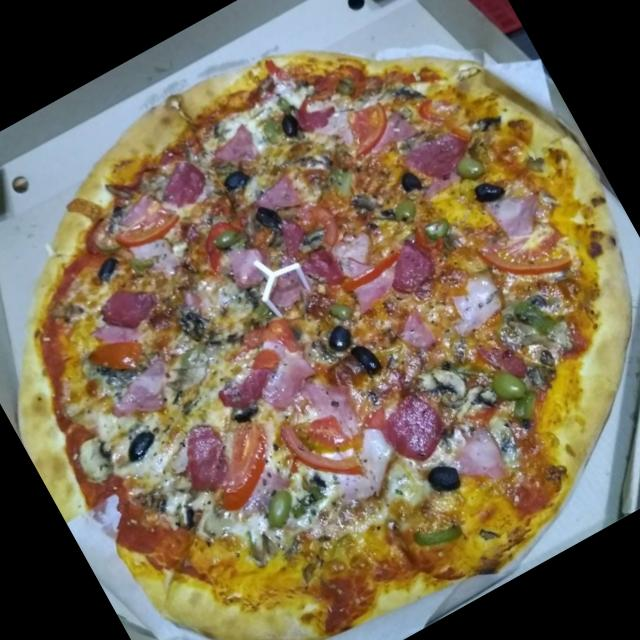black_olives: (421, 455, 470, 501), (82, 247, 130, 292), (116, 423, 164, 466), (248, 194, 289, 238), (465, 174, 508, 213), (347, 334, 383, 380), (389, 162, 429, 202), (272, 106, 309, 146), (228, 398, 270, 432), (217, 163, 253, 199), (322, 320, 356, 355)
mushrooms: (412, 351, 502, 444)
pizza: (17, 49, 635, 640)
